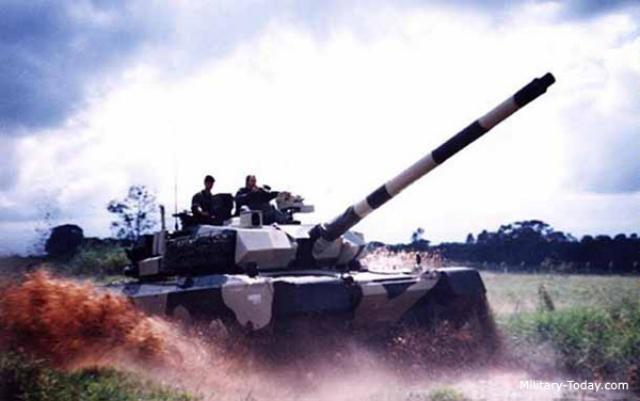other: (191, 173, 217, 204), (238, 171, 260, 200)
tank: (130, 189, 482, 340)
